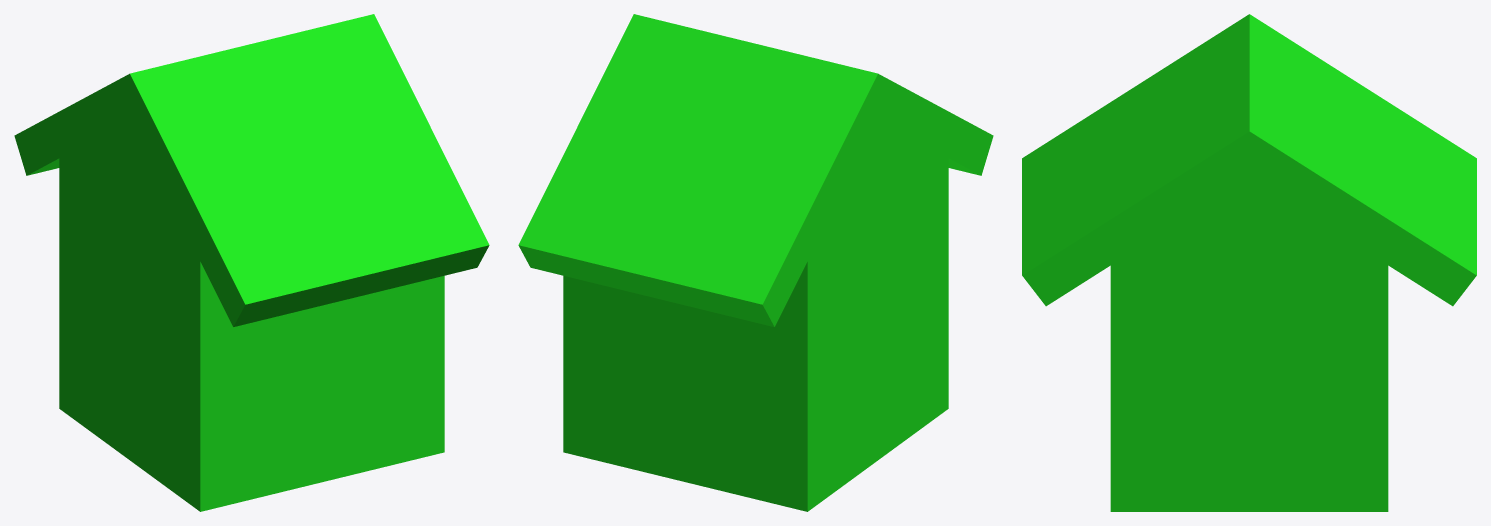
The model's file is maison1.glb.
3 renders of one model, left to right at view 1: azimuth 30°, elevation 25°; view 2: azimuth 150°, elevation 25°; view 3: azimuth 270°, elevation 25°, orthographic.
Visible parts, largest first — view 1: Cube.002; view 2: Cube.002; view 3: Cube.002.
Boxes of the visible parts, x1,y1,x2,y2 form: Cube.002: (14, 14, 489, 511); Cube.002: (518, 14, 993, 511); Cube.002: (1022, 14, 1476, 511).
Size of the model in its own units: 0.2525 by 0.3821 by 0.4136.
